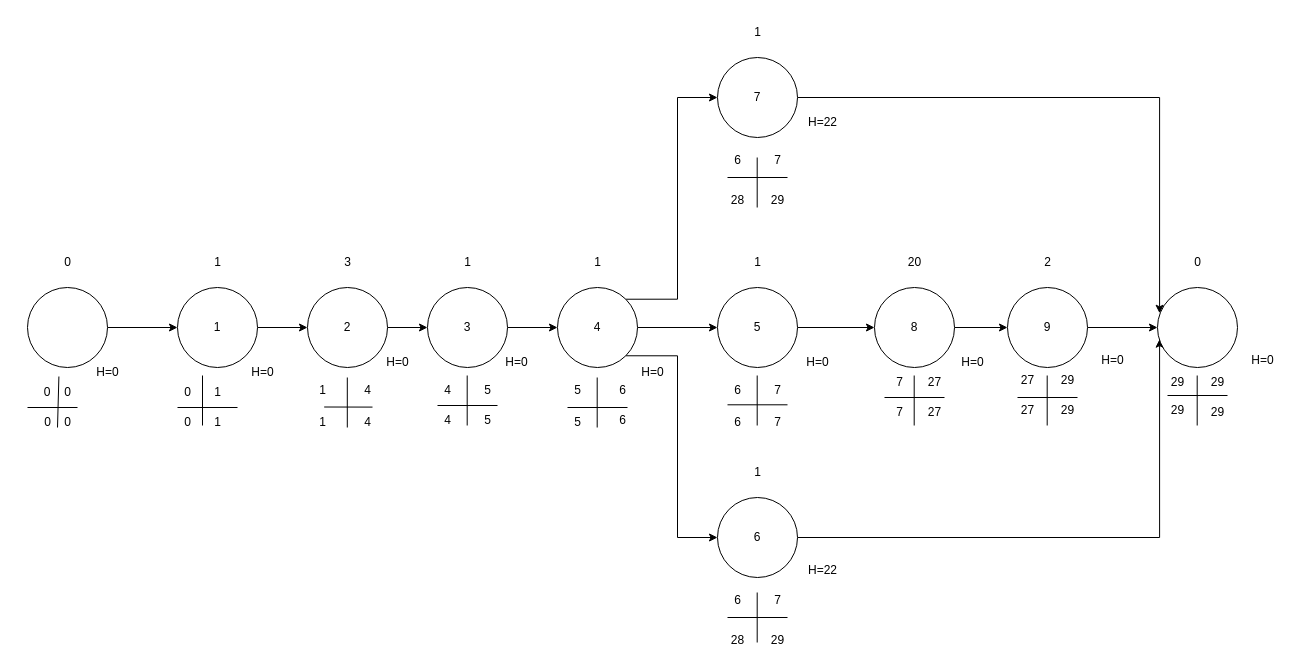
Image size: 1304x672. Some labels were removed from this diagram. The shapes that lost their labels are listed below. From the top down, each one's centre as x and y in pixels, then its label:
At (67,327): "INICIO".
At (1197,327): "FIN".
